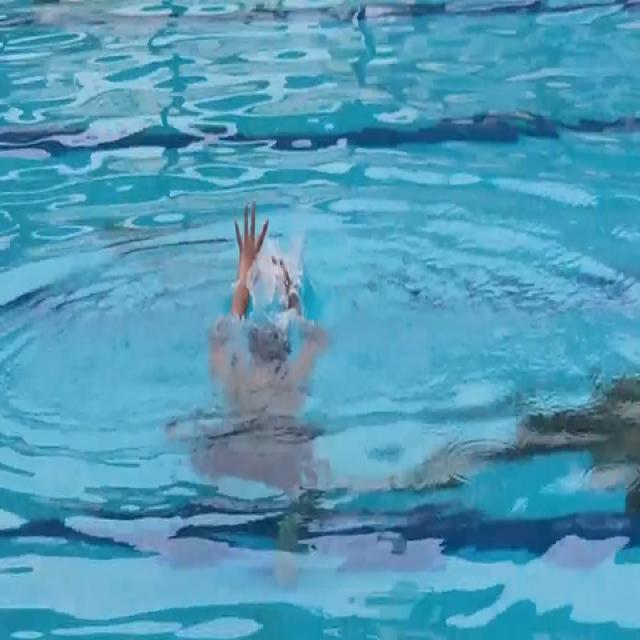Drowning: (209, 182, 331, 378)
